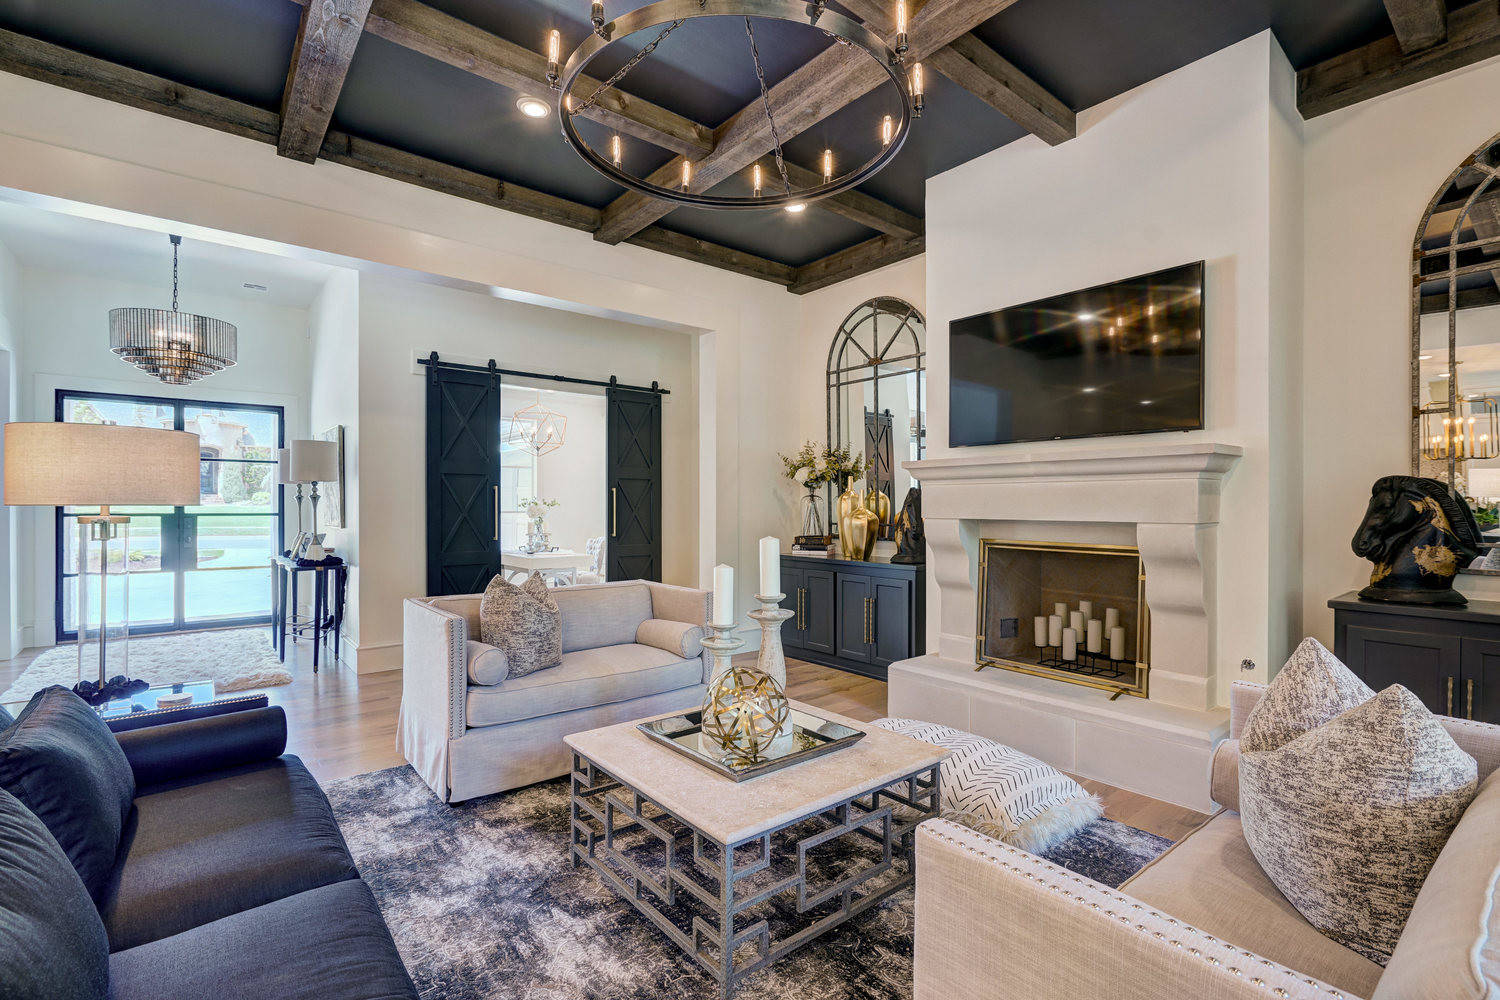TV: (943, 256, 1209, 450)
chair: (907, 625, 1500, 1000)
floor lamp: (0, 411, 211, 676)
sofa: (1, 666, 429, 1000), (396, 578, 723, 817)
table: (555, 683, 950, 1000)
table lamp: (292, 434, 342, 547), (273, 440, 306, 551)
